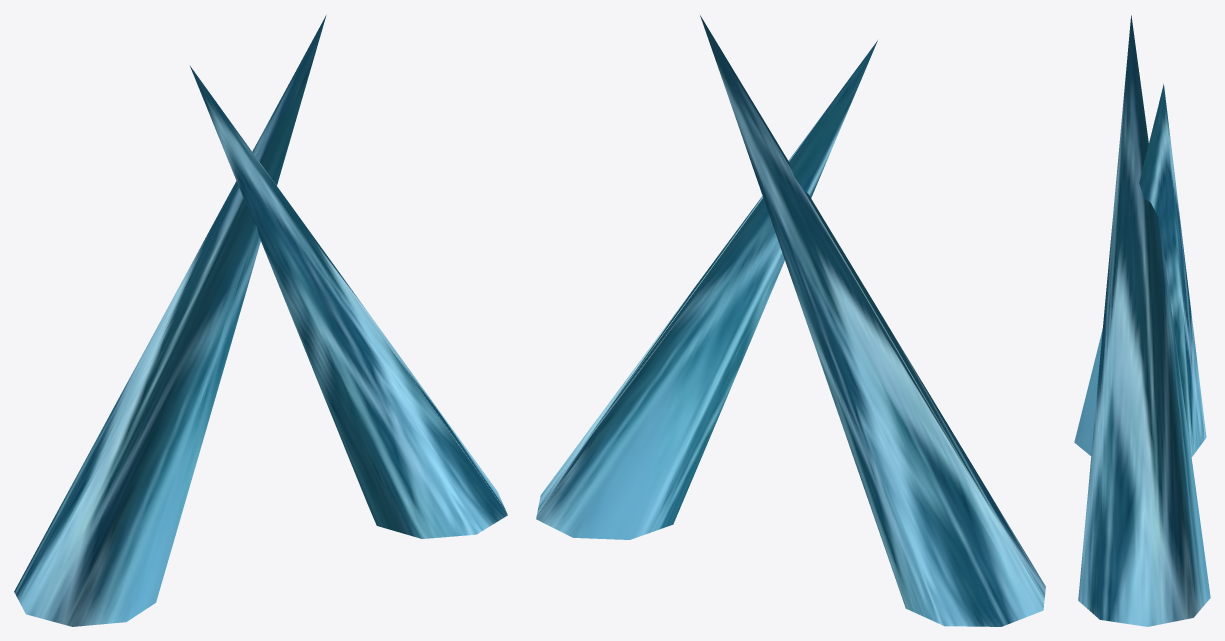
Rendered from oooice.glb.
3 views of the same model, side by side, from view 1: azimuth 30°, elevation 25°; view 2: azimuth 150°, elevation 25°; view 3: azimuth 270°, elevation 25° (orthographic). The views are drawn at different scales.
Parts seen in each view (by area): view 1: OOOice, OOORice; view 2: OOOice, OOORice; view 3: OOORice, OOOice.
Part boxes in pixels (x1,y1,x2,y2): OOOice: (14,15,326,626); OOORice: (190,66,507,538); OOOice: (700,15,1045,626); OOORice: (536,40,877,539); OOORice: (1078,15,1210,626); OOOice: (1074,84,1206,456).
Bounding box in the file's own units: 2.78 × 2.83 × 0.7441.
1 material, 1 textured.
